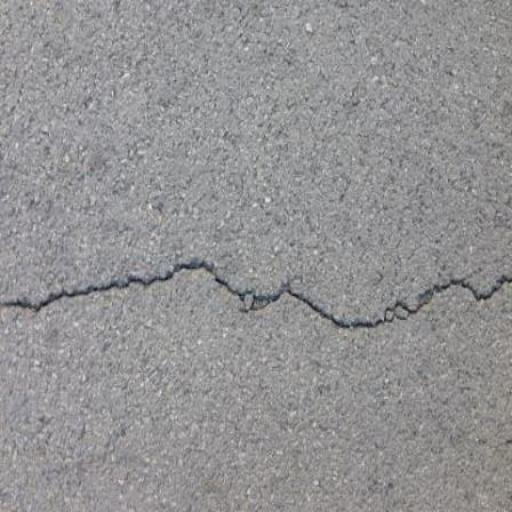spalling: (1, 241, 507, 352)
